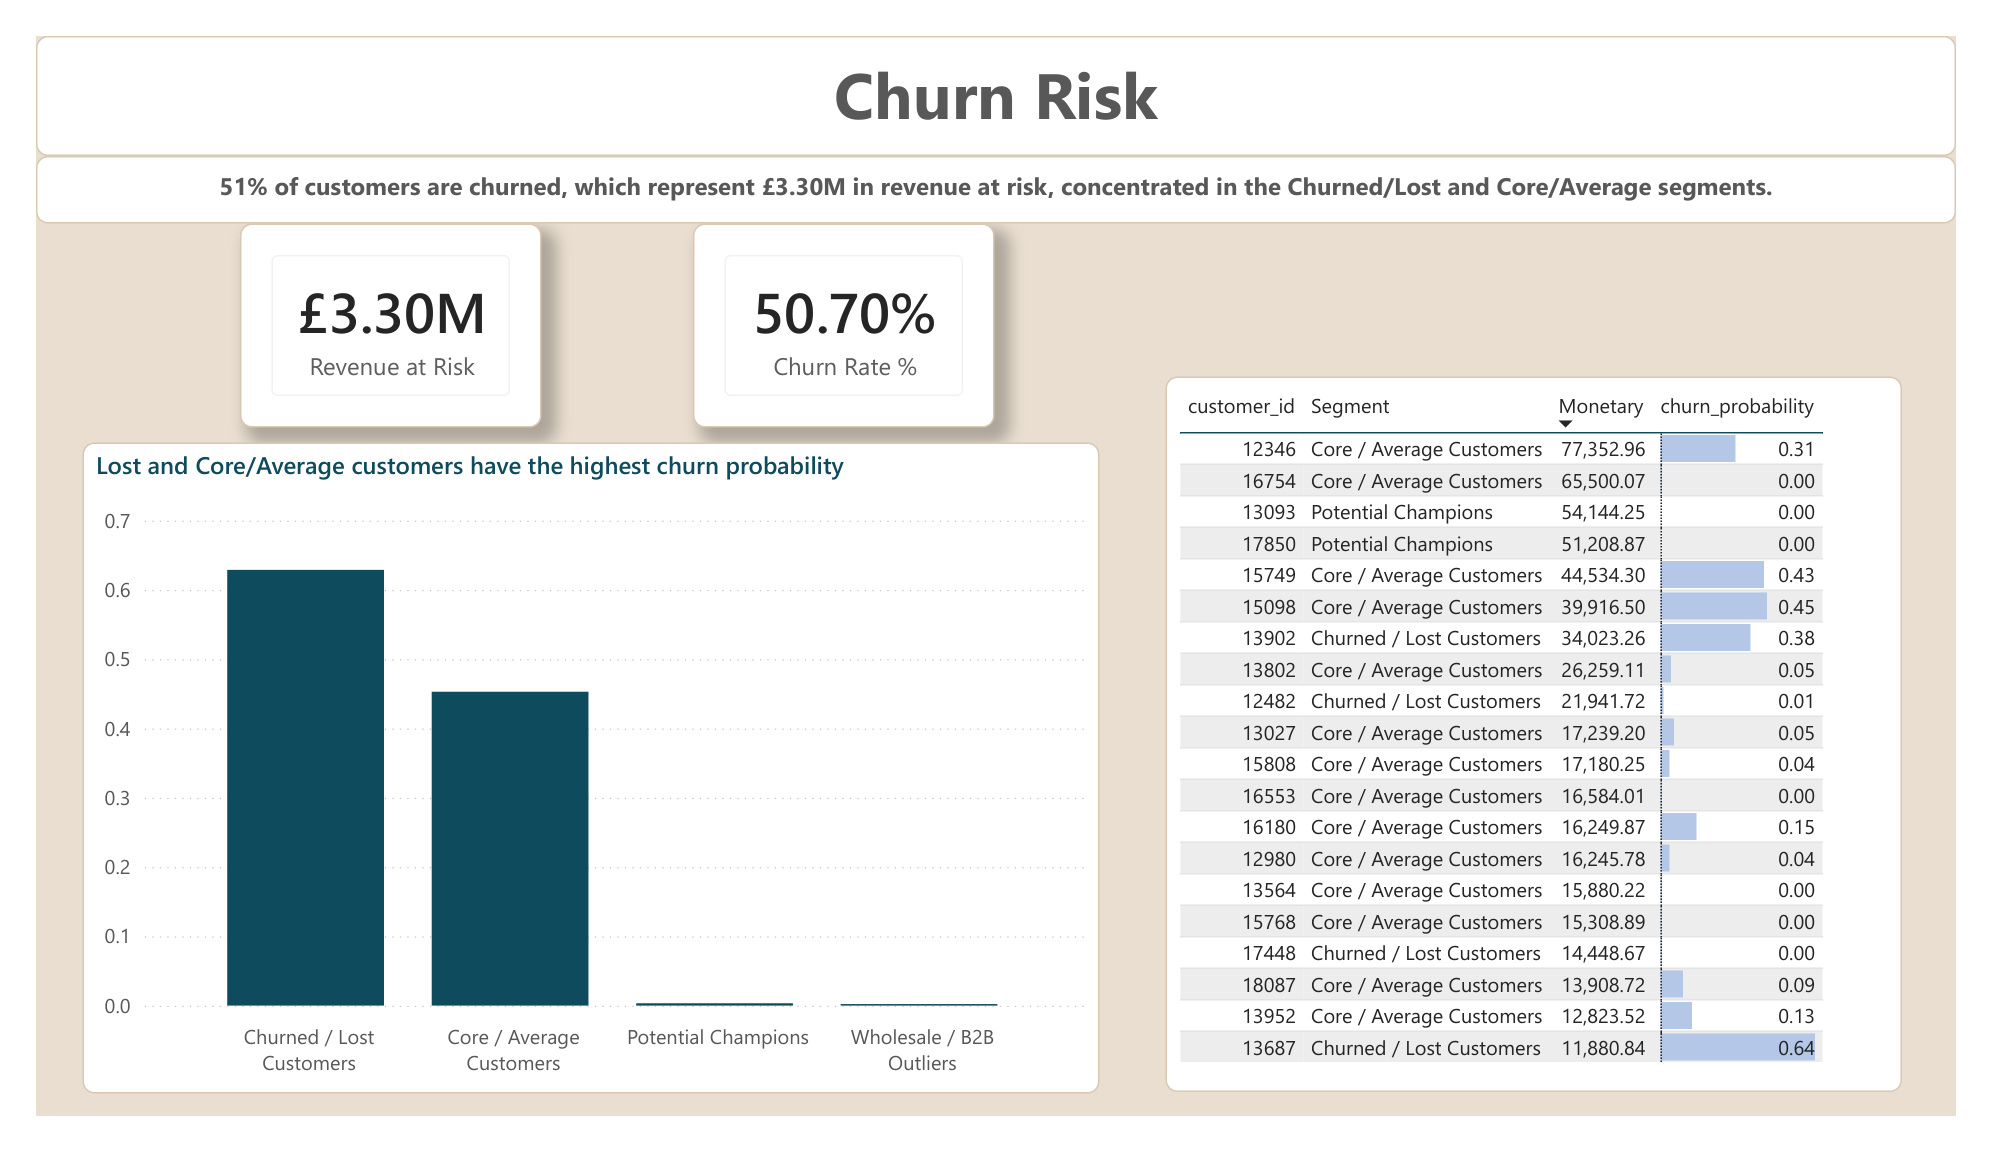

This screenshot's page, from the dashboard's own definition file:
{"tool":"powerbi","page":{"name":"Churn Risk","canvas":[1280,720],"ordinal":5},"visuals":[{"type":"cardVisual","fields":{"Data":["_Measures.Revenue at Risk"]},"box":[136.2,125.2,201.2,136.2],"z":0},{"type":"cardVisual","fields":{"Data":["_Measures.Churn Rate %"]},"box":[438,125.2,201.2,136.2],"z":1},{"type":"clusteredColumnChart","title":"Lost and Core/Average customers have the highest churn probability","fields":{"Category":["rpt customer_segments.Segment"],"Y":["Avg(rpt customer_segments.churn_probability)"]},"box":[31.2,270.5,678.1,434.2],"z":2},{"type":"textbox","box":[0,0,1279.8,79.8],"z":3},{"type":"textbox","box":[0,79.8,1279.8,45.4],"z":4},{"type":"tableEx","fields":{"Values":["rpt customer_segments.customer_id","rpt customer_segments.Segment","rpt customer_segments.Monetary","rpt customer_segments.churn_probability"]},"box":[753.4,227,490.8,477.3],"z":5}]}

Visuals, with their boxes in screenshot pixels (x1, y1, x2, y2), scaled from the page's 1280x720 canvas onto the 1992x1152 screenshot:
cardVisual - _Measures.Revenue at Risk: select_region(212, 200, 525, 418)
cardVisual - _Measures.Churn Rate %: select_region(682, 200, 995, 418)
"Lost and Core/Average customers have the highest churn probability" clusteredColumnChart: select_region(49, 433, 1104, 1128)
textbox: select_region(0, 0, 1991, 128)
textbox: select_region(0, 128, 1991, 200)
tableEx - rpt customer_segments.customer_id x rpt customer_segments.Segment: select_region(1172, 363, 1936, 1127)
